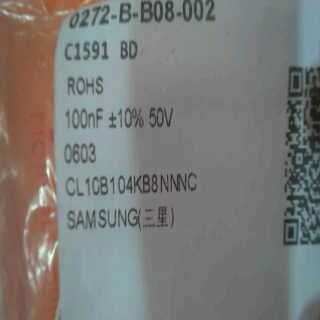100nF: (59, 106, 107, 131)
